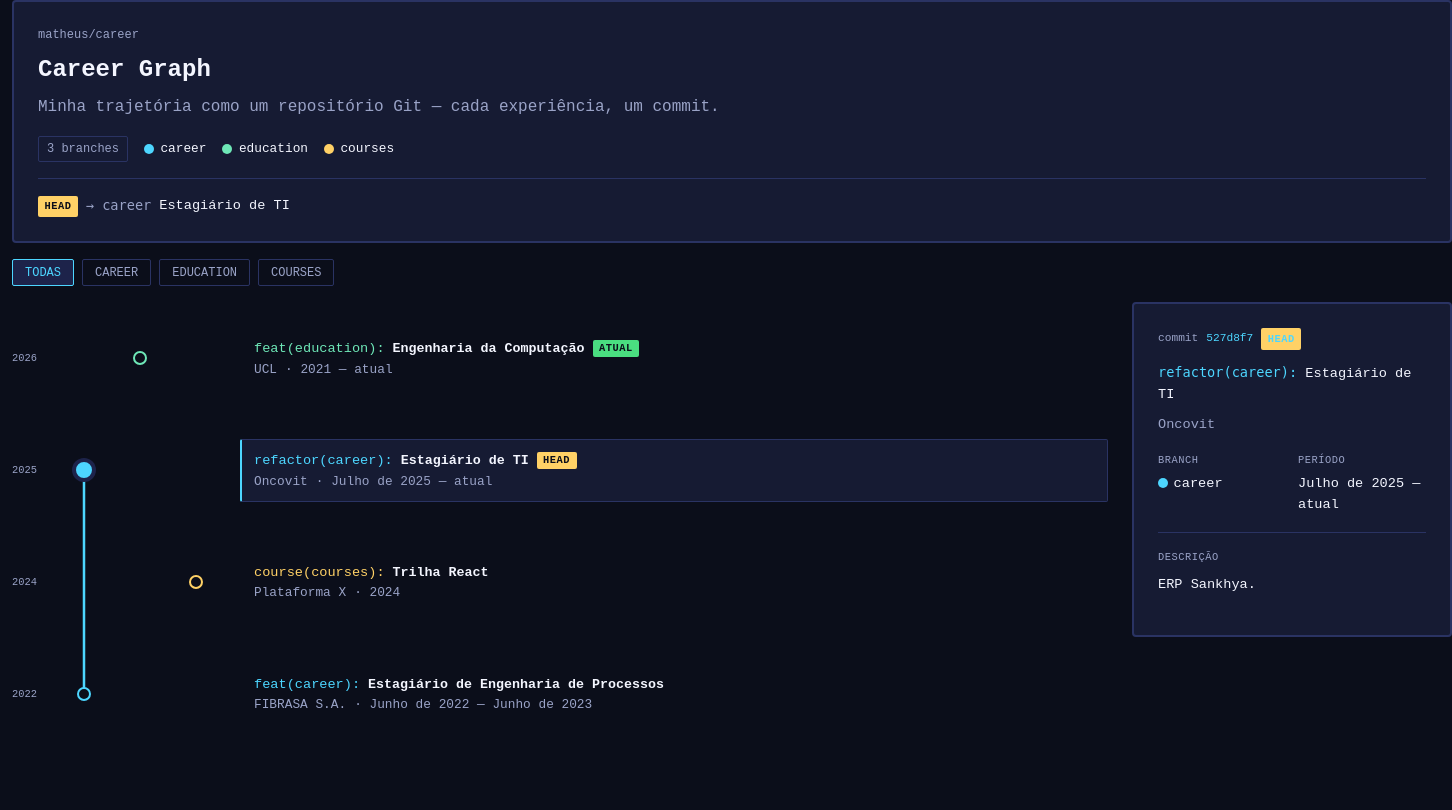
Scenario: CareerGraph › renders a courses commit and lets it be selected
The image size is (1452, 810).
Step 1. Click the button "course(courses): Trilha React Plataforma X 2024" → (278, 572), box left=240, top=552, right=1108, bottom=613
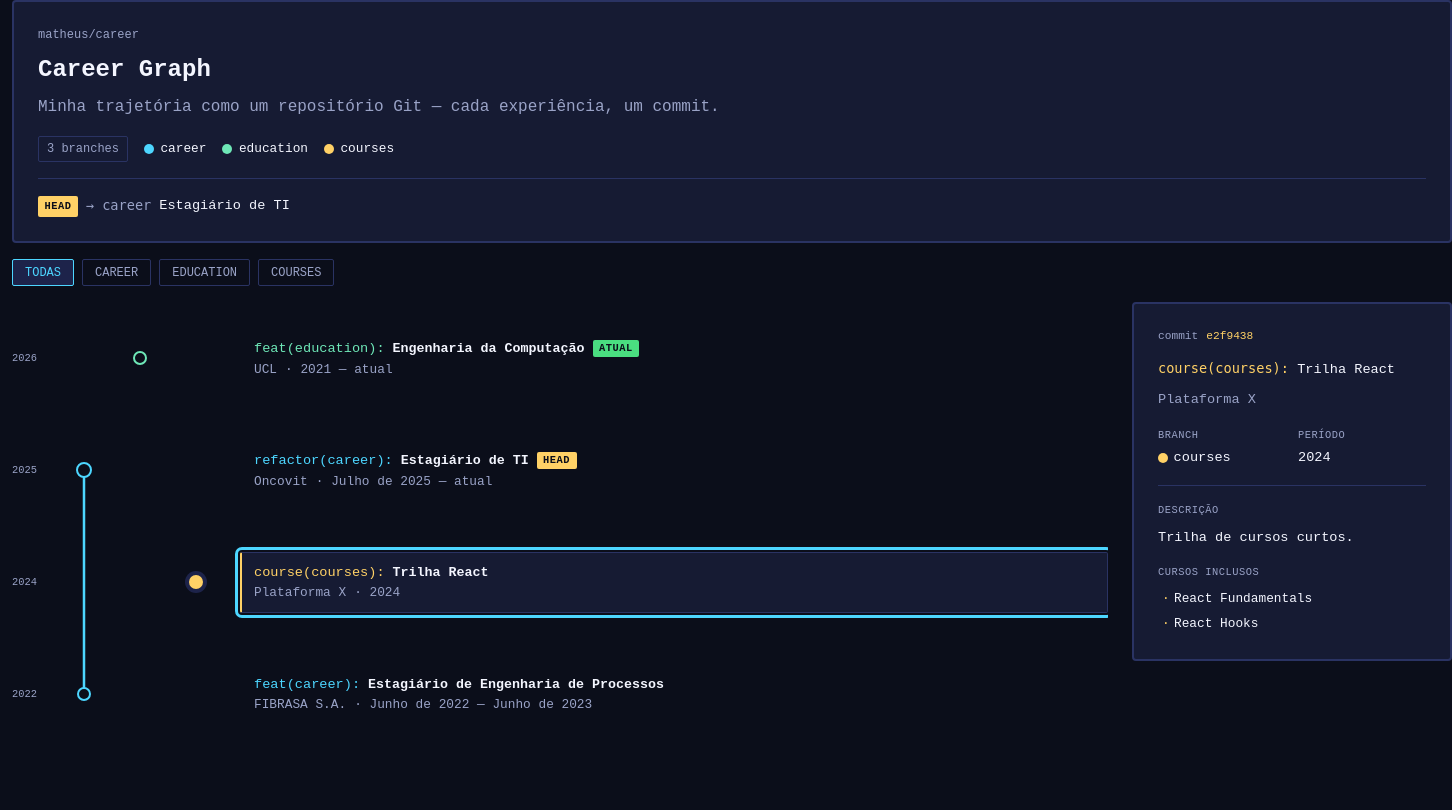
Check: the element that starts with "commit" shows "Plataforma X", box left=1158, top=392, right=1256, bottom=407
Check: the element that starts with "commit" shows "React Fundamentals", box left=1174, top=591, right=1312, bottom=606
Check: the element that starts with "commit" shows "React Hooks", box left=1174, top=616, right=1258, bottom=631
